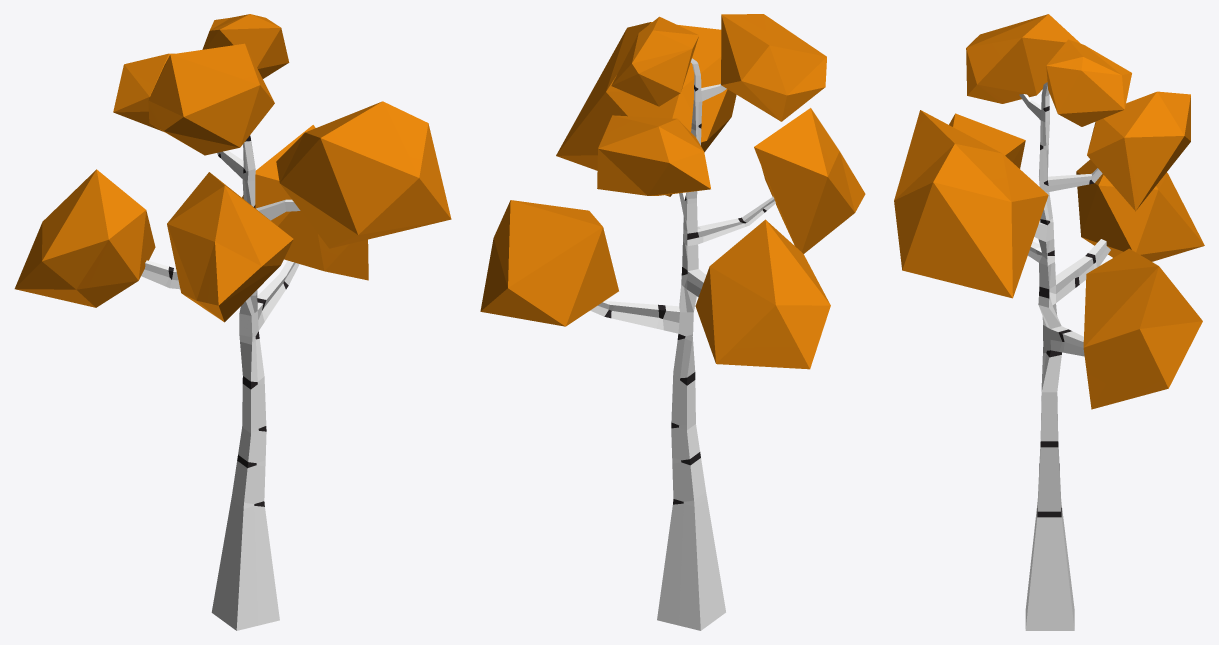
Rendered from birch-tree-orange-0.gltf.
The picture shows the model from 3 angles, left to right: view 1: azimuth 30°, elevation 25°; view 2: azimuth 150°, elevation 25°; view 3: azimuth 270°, elevation 25°; orthographic projection. The views are drawn at different scales.
Visible parts, largest first — view 1: Cube; view 2: Cube; view 3: Cube.
Part boxes in pixels (x1,y1,x2,y2): Cube: [14, 14, 451, 630]; Cube: [480, 14, 865, 630]; Cube: [894, 14, 1204, 630].
Size of the model in its own units: 15.5 by 26.58 by 13.01.
1 material, 1 textured.
